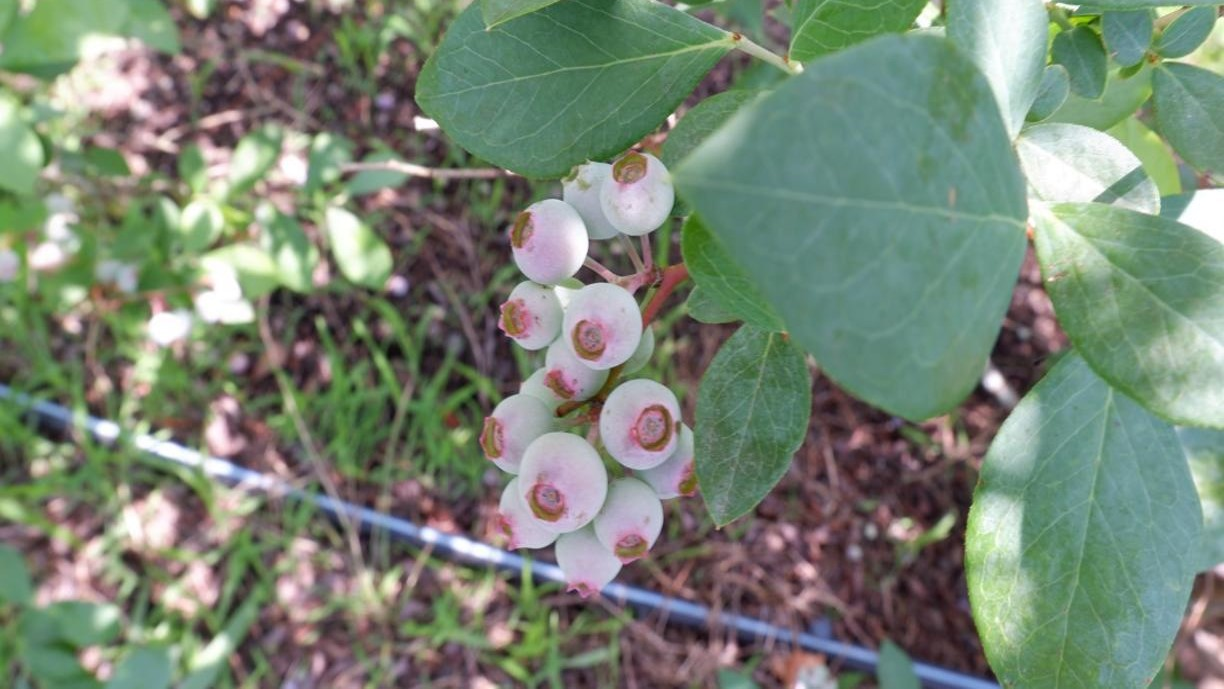Immature: (518, 432, 607, 534), (562, 283, 641, 370), (512, 199, 590, 284), (593, 476, 664, 566), (479, 394, 557, 475), (599, 151, 674, 235), (554, 522, 622, 599), (494, 477, 561, 554), (498, 281, 571, 351), (561, 161, 620, 240), (544, 335, 609, 402), (520, 367, 587, 420), (618, 323, 654, 377)
